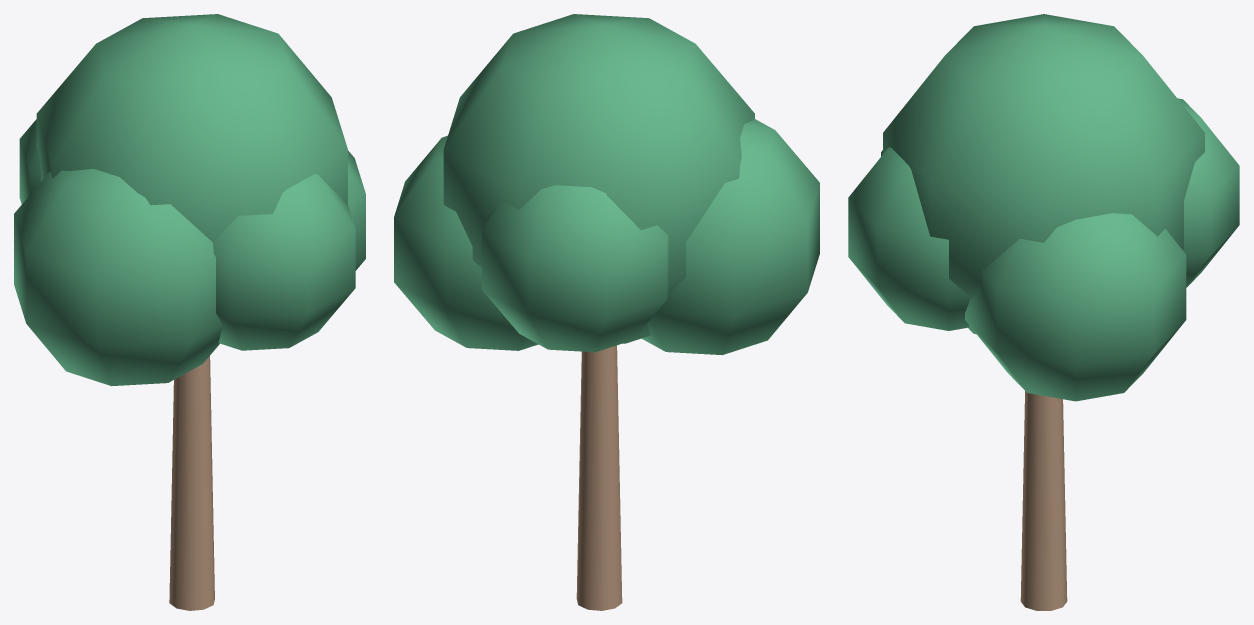
File: tree_street.glb
3 views of the same model, side by side, from view 1: azimuth 30°, elevation 25°; view 2: azimuth 150°, elevation 25°; view 3: azimuth 270°, elevation 25° (orthographic).
Visible parts, largest first — view 1: tree_street; view 2: tree_street; view 3: tree_street.
Part boxes in pixels (box(x1,y1,x2,y2)): tree_street: box(14, 14, 365, 610); tree_street: box(394, 14, 819, 610); tree_street: box(848, 14, 1239, 610).
Size of the model in its own units: 3.99 by 6 by 3.7.
